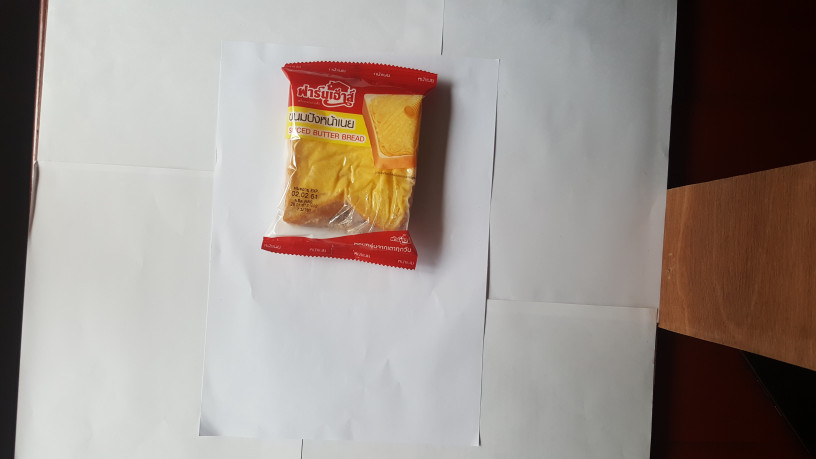farmhouse-bread-butter: (260, 48, 442, 276)
